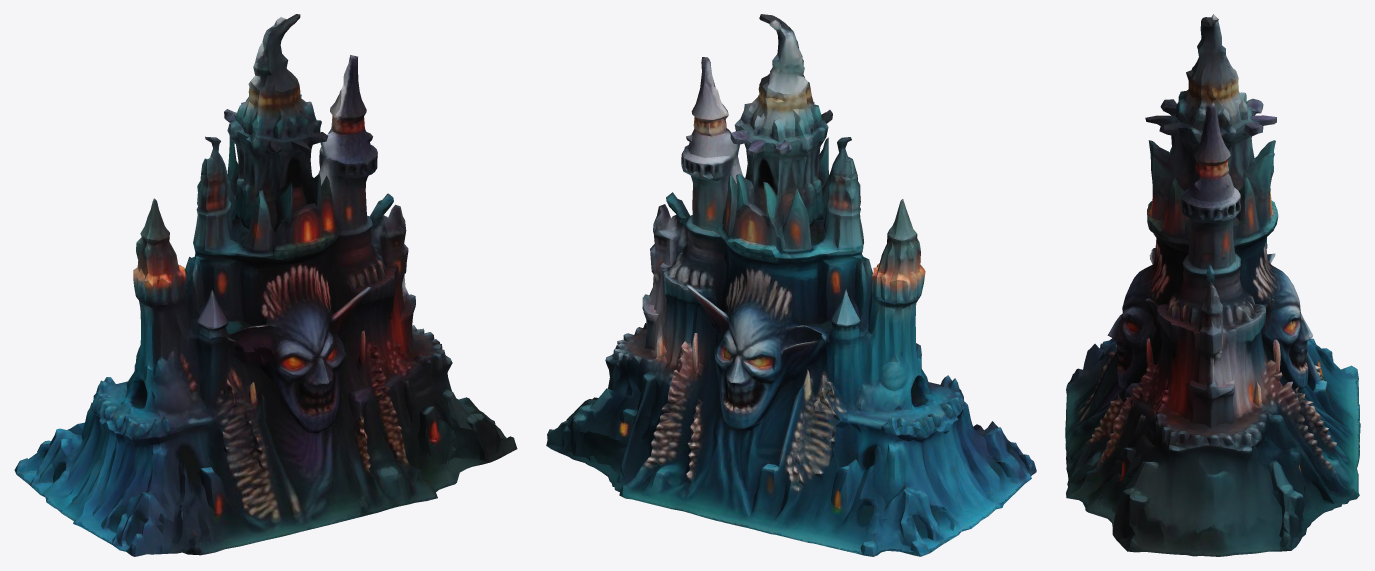
The model's file is goblincastle.glb.
The picture shows the model from 3 angles, left to right: view 1: azimuth 30°, elevation 25°; view 2: azimuth 150°, elevation 25°; view 3: azimuth 270°, elevation 25°; orthographic projection.
Parts seen in each view (by area): view 1: mesh; view 2: mesh; view 3: mesh.
Part boxes in pixels (x1=…): mesh: x1=14, y1=14, x2=517, y2=556; mesh: x1=546, y1=14, x2=1036, y2=556; mesh: x1=1065, y1=14, x2=1360, y2=556.
Bounding box in the file's own units: 0.9888 × 1 × 0.6026.
Materials: 1 (1 with a texture image).
